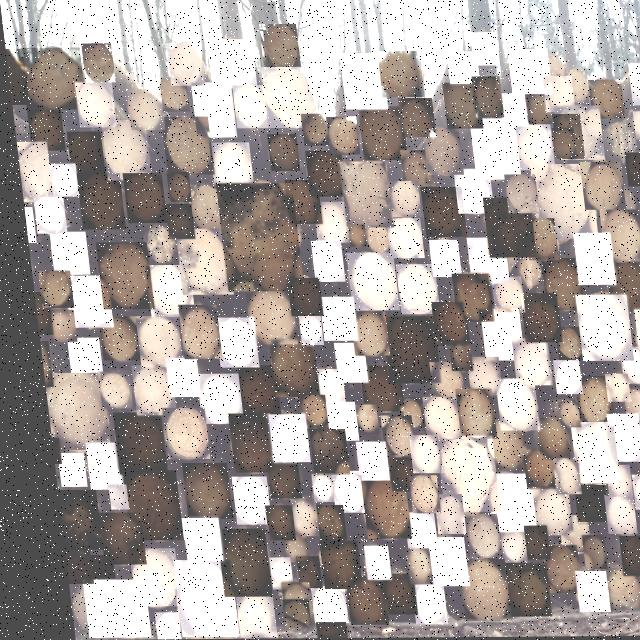wood-log: (212, 183, 298, 292), (526, 165, 593, 240), (35, 373, 100, 450), (159, 560, 224, 637), (425, 436, 488, 513), (111, 470, 172, 541), (19, 48, 84, 110), (373, 317, 432, 384), (68, 580, 136, 638), (90, 242, 147, 310), (170, 229, 227, 295), (568, 296, 625, 362), (204, 529, 258, 597), (335, 162, 389, 228), (260, 67, 317, 128), (103, 412, 156, 475), (445, 560, 496, 622), (478, 198, 530, 258), (466, 119, 517, 180), (115, 548, 167, 607), (158, 117, 210, 175), (340, 253, 392, 311), (98, 120, 148, 180), (475, 474, 525, 533), (560, 423, 608, 484), (349, 481, 399, 539), (261, 339, 310, 398), (170, 463, 221, 519), (238, 290, 289, 345), (72, 173, 121, 230), (218, 414, 265, 473), (551, 107, 601, 161), (355, 107, 404, 161), (338, 54, 385, 110), (46, 490, 89, 550), (139, 266, 188, 318), (58, 276, 106, 328), (491, 563, 537, 617), (189, 83, 234, 138), (86, 513, 133, 565), (206, 40, 255, 89), (152, 408, 199, 459), (594, 210, 639, 263), (171, 305, 214, 360), (187, 374, 234, 424), (128, 316, 174, 367), (206, 143, 251, 195), (122, 365, 167, 416), (472, 309, 516, 361), (486, 379, 530, 431), (473, 423, 518, 473), (416, 188, 461, 238), (534, 259, 577, 311), (389, 265, 433, 315), (118, 173, 162, 223), (567, 234, 609, 286), (13, 142, 49, 202), (576, 163, 621, 211), (182, 185, 226, 234), (207, 318, 250, 368), (377, 52, 423, 98), (228, 366, 271, 415), (513, 294, 556, 343), (445, 274, 488, 323), (599, 263, 640, 314), (350, 366, 395, 412), (331, 576, 373, 625), (306, 541, 348, 590), (446, 389, 486, 440), (414, 538, 455, 587), (506, 50, 550, 95), (220, 477, 261, 525), (419, 128, 460, 176), (258, 415, 299, 463), (461, 238, 503, 284), (503, 339, 544, 386), (528, 546, 568, 594), (258, 24, 300, 69), (301, 151, 342, 197), (73, 82, 114, 128), (298, 430, 339, 476), (75, 443, 115, 490), (512, 123, 551, 171), (91, 316, 132, 361), (520, 490, 560, 536), (565, 377, 605, 423), (440, 83, 480, 129), (449, 169, 489, 214), (596, 415, 633, 463), (44, 232, 84, 275), (169, 518, 209, 561), (423, 303, 462, 347), (342, 312, 381, 356), (221, 597, 262, 638), (312, 297, 350, 341), (280, 180, 317, 225), (63, 131, 101, 174), (165, 43, 203, 86), (230, 86, 267, 130), (452, 514, 488, 559), (412, 398, 450, 440), (25, 110, 63, 151), (308, 202, 346, 243), (124, 89, 162, 130), (591, 569, 627, 611), (395, 99, 433, 138), (381, 219, 418, 259), (586, 80, 622, 120), (549, 115, 581, 160), (561, 572, 596, 613), (397, 584, 432, 625), (368, 574, 403, 615), (370, 416, 405, 457), (396, 151, 431, 192), (319, 471, 353, 513), (525, 418, 559, 460), (519, 219, 553, 261), (296, 586, 333, 624), (280, 278, 316, 317), (511, 451, 546, 491), (421, 363, 456, 403), (255, 459, 290, 499), (458, 357, 493, 396), (325, 343, 359, 383), (344, 442, 378, 482), (80, 43, 114, 83), (305, 241, 338, 282), (31, 271, 67, 308), (157, 358, 191, 397), (500, 175, 534, 214), (605, 537, 638, 577), (470, 77, 502, 118), (562, 486, 596, 524), (323, 117, 357, 155), (28, 197, 62, 235), (421, 495, 453, 535), (391, 513, 425, 550), (89, 372, 123, 409), (398, 436, 431, 474), (316, 402, 348, 441), (5, 49, 27, 105), (59, 338, 94, 373), (545, 516, 578, 553), (592, 497, 624, 535), (264, 134, 296, 172), (484, 277, 517, 313), (384, 182, 417, 218), (540, 77, 573, 113), (423, 241, 455, 278), (397, 476, 428, 514), (303, 505, 334, 542), (304, 369, 336, 404), (267, 583, 298, 619), (611, 347, 640, 385), (51, 546, 80, 584), (377, 458, 409, 492), (156, 78, 188, 112), (541, 459, 570, 496), (278, 499, 306, 537), (445, 52, 478, 84), (253, 506, 283, 541), (544, 361, 574, 395), (160, 204, 189, 239), (547, 328, 577, 361), (289, 396, 318, 430), (46, 453, 75, 487), (392, 549, 419, 585), (469, 33, 498, 66), (45, 164, 74, 197), (40, 310, 69, 342), (497, 94, 525, 127), (510, 526, 537, 560), (350, 546, 377, 580), (298, 114, 326, 146), (487, 530, 514, 563), (568, 536, 594, 570), (594, 466, 621, 498), (614, 390, 640, 422), (282, 557, 308, 589), (267, 600, 296, 628), (75, 555, 102, 585), (523, 95, 549, 125), (389, 398, 415, 428), (27, 292, 45, 335), (255, 558, 279, 590), (139, 612, 166, 640), (162, 172, 187, 202), (548, 129, 573, 159), (595, 375, 621, 403), (345, 406, 369, 436), (626, 310, 640, 361), (620, 476, 640, 511), (291, 316, 315, 345), (272, 535, 296, 563), (299, 474, 322, 503), (621, 153, 640, 188), (548, 401, 571, 428), (441, 346, 464, 372), (626, 64, 640, 106), (32, 341, 44, 387), (300, 622, 332, 639), (97, 485, 117, 510), (19, 207, 31, 243), (630, 571, 640, 614), (342, 225, 361, 247), (628, 445, 640, 478), (634, 359, 640, 409), (630, 112, 640, 140), (633, 413, 640, 451), (41, 438, 50, 464), (636, 206, 640, 249), (638, 504, 640, 540)
